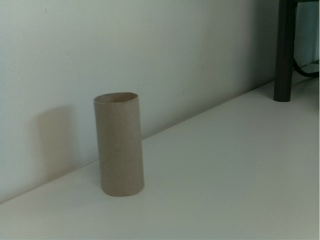rollo papel: (92, 91, 148, 200)
